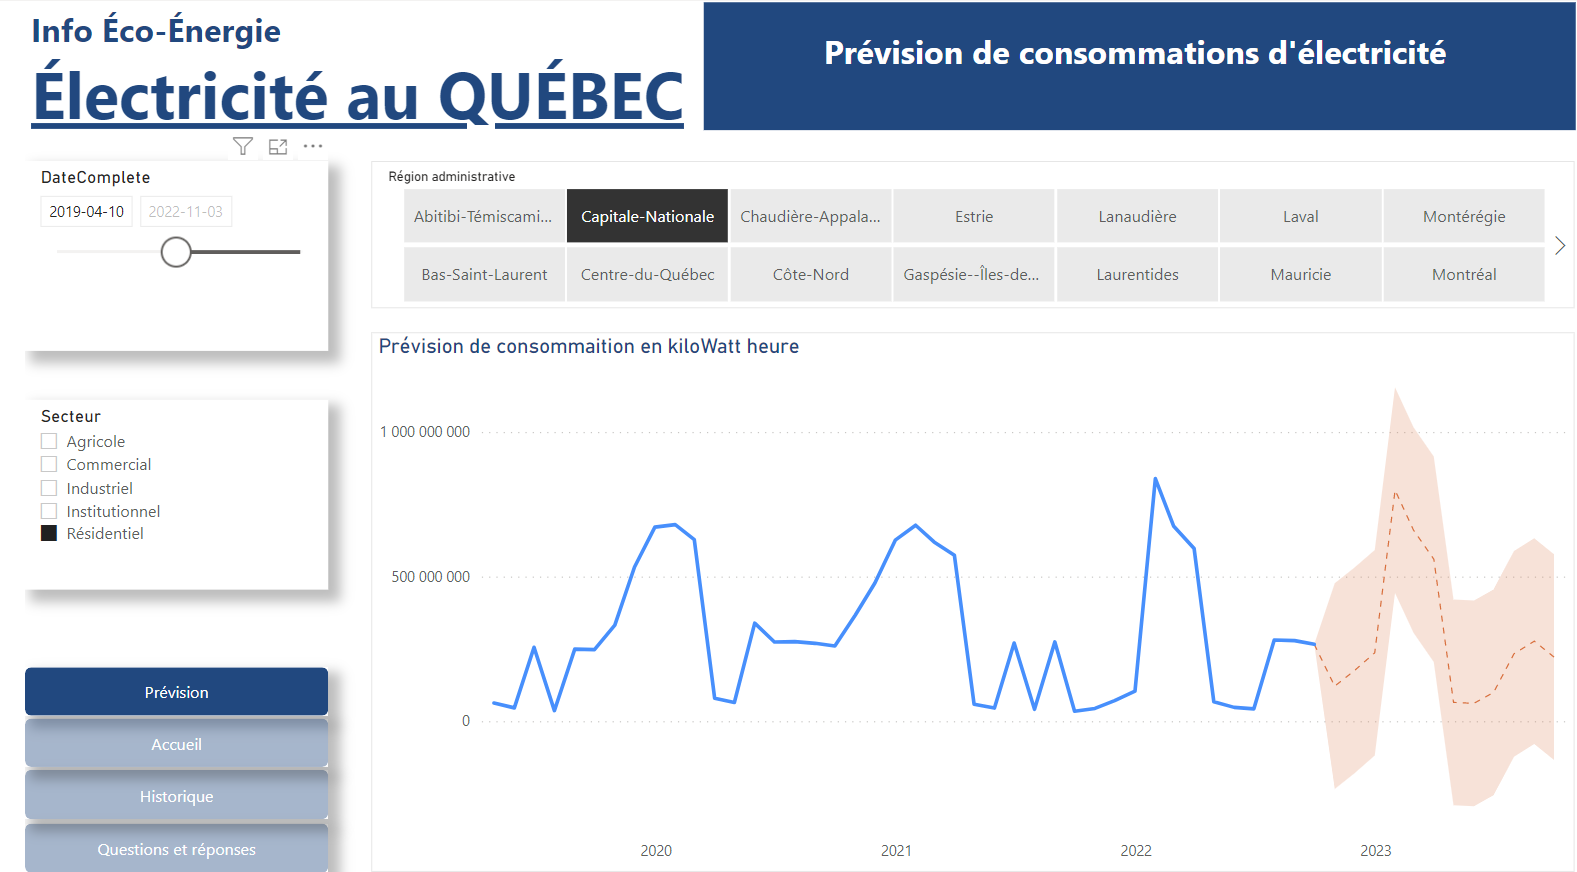

What the dashboard file says about the page in this screenshot:
{"tool":"powerbi","page":{"name":"Prévision","canvas":[1280,720],"ordinal":4},"visuals":[{"type":"textbox","box":[0,0,640.5,143.7],"z":0},{"type":"slicer","fields":{"Values":["Municipalité_Consommation.Secteur"]},"box":[0,328.7,250.5,156.5],"z":1000},{"type":"lineChart","title":"Prévision de consommaition en kiloWatt heure","fields":{"Category":["Date.FinMois"],"Y":["Municipalité_Consommation.Qté consommée (kWh)"]},"box":[286.2,274,993.8,445.9],"z":2000},{"type":"textbox","box":[560.1,0.9,719.9,105.8],"z":3000},{"type":"actionButton","box":[0,679.1,250.5,40.9],"z":4000},{"type":"actionButton","box":[0,550,250.5,39.7],"z":5000},{"type":"actionButton","box":[0,635.2,250.5,40.9],"z":6000},{"type":"actionButton","box":[0,592.6,250.5,39.7],"z":7000},{"type":"slicer","fields":{"Values":["Date.DateComplete"]},"box":[0,132.5,250.5,156.5],"z":8000},{"type":"slicer","fields":{"Values":["Municipalité.Région administrative"]},"box":[286.2,132.3,993.8,121.9],"z":9000}]}

Visuals, with their boxes on the page's 1280x720 design canvas (x1, y1, x2, y2). These are canvas units, not pixel positions in the 1577x872 screenshot, which may show the page scaled, cropped or inside an application window:
textbox: region(0, 0, 640, 144)
slicer - Municipalité_Consommation.Secteur: region(0, 329, 250, 485)
"Prévision de consommaition en kiloWatt heure" lineChart: region(286, 274, 1280, 720)
textbox: region(560, 1, 1280, 107)
actionButton: region(0, 679, 250, 720)
actionButton: region(0, 550, 250, 590)
actionButton: region(0, 635, 250, 676)
actionButton: region(0, 593, 250, 632)
slicer - Date.DateComplete: region(0, 132, 250, 289)
slicer - Municipalité.Région administrative: region(286, 132, 1280, 254)
